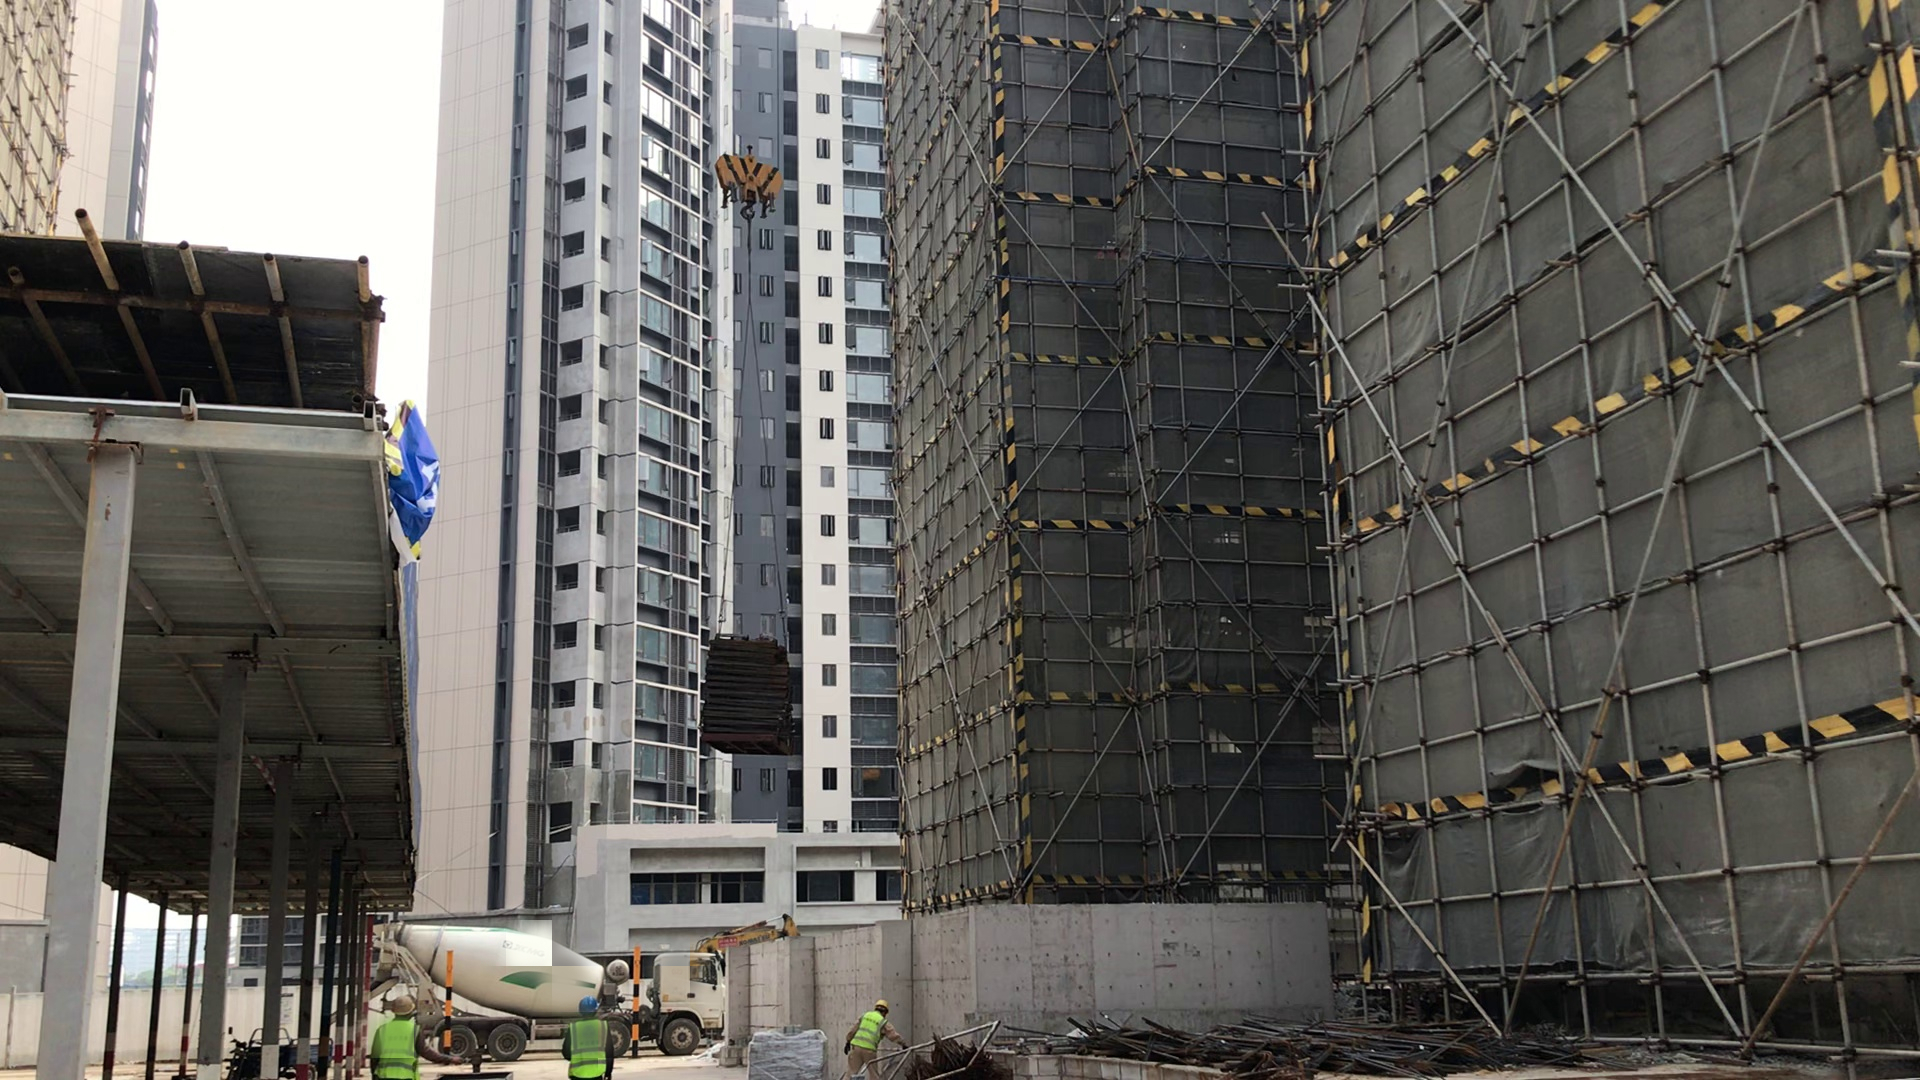helmet: (578, 995, 599, 1018), (393, 995, 415, 1016), (869, 1000, 890, 1016)
hook: (717, 142, 791, 231)
person: (844, 997, 911, 1080), (565, 996, 618, 1080), (369, 994, 422, 1080)
vest: (372, 1017, 419, 1080), (567, 1020, 613, 1080), (852, 1008, 884, 1054)
